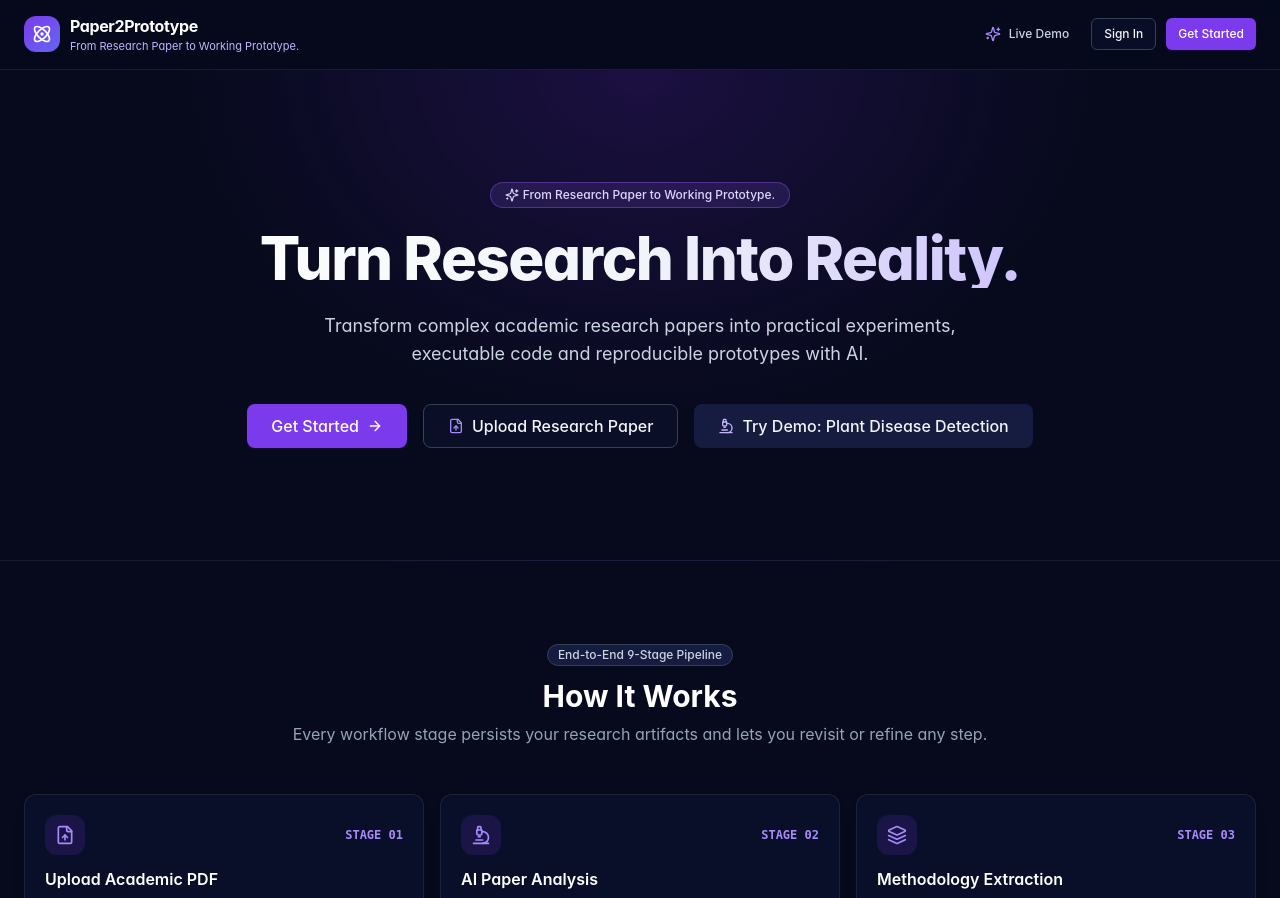
Scenario: Paper2Prototype End-to-End UI Workflow › renders Landing Page with required copy and navigates into Sample Demo Project
expect the heading "Turn Research Into Reality." is shown: met, box [152,228,1128,288]
expect the text "Transform complex academic research papers into practical experiments" is shown: met, box [324,314,956,364]
Open Sample Demo Project from landing page
Click the button "Try Demo: Plant Disease Detection" at (864, 426), box [694,404,1033,448]
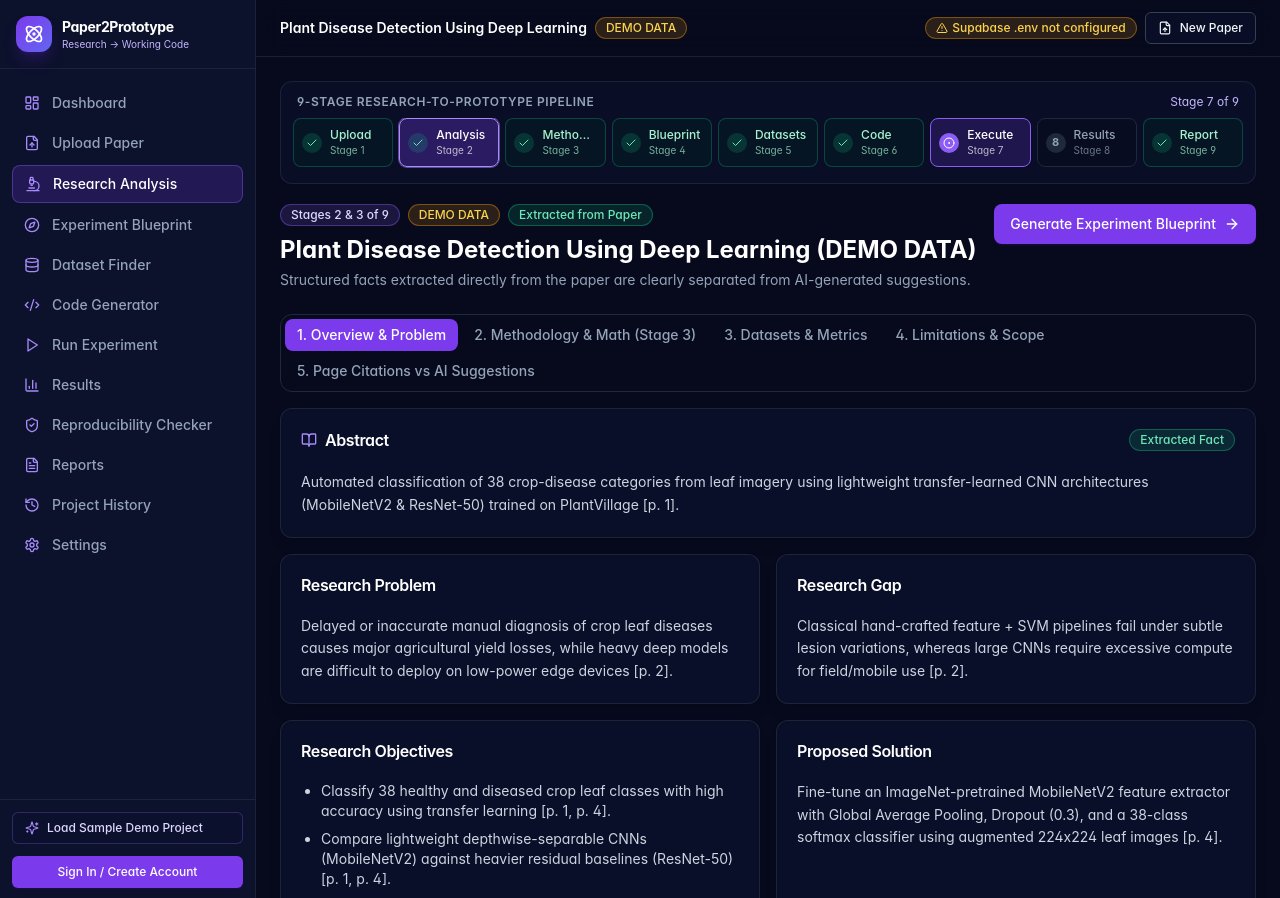
expect the heading "Plant Disease Detection Using Deep Learning (DEMO DATA)" is shown: met, box [280,234,977,266]
expect the text "9-Stage Research-to-Prototype Pipeline" is shown: met, box [297,94,594,110]
